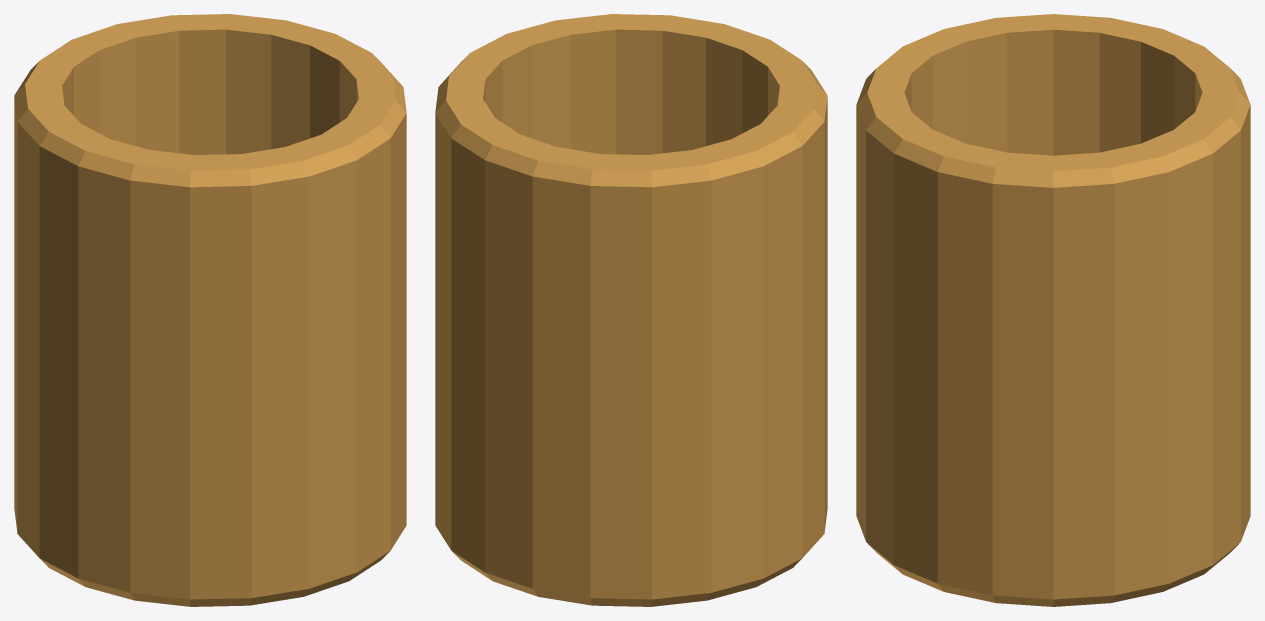
Rendered from Part O_glb.glb.
3 views of the same model, side by side, from view 1: azimuth 30°, elevation 25°; view 2: azimuth 150°, elevation 25°; view 3: azimuth 270°, elevation 25° (orthographic).
Visible parts, largest first — view 1: Mesh_Mesh_head_geo.001_lambert2SG.001; view 2: Mesh_Mesh_head_geo.001_lambert2SG.001; view 3: Mesh_Mesh_head_geo.001_lambert2SG.001.
Part boxes in pixels (x1=…): Mesh_Mesh_head_geo.001_lambert2SG.001: x1=14, y1=14, x2=406, y2=606; Mesh_Mesh_head_geo.001_lambert2SG.001: x1=435, y1=14, x2=827, y2=606; Mesh_Mesh_head_geo.001_lambert2SG.001: x1=856, y1=14, x2=1250, y2=606.
Bounding box in the file's own units: 20.5 × 25 × 20.5.
